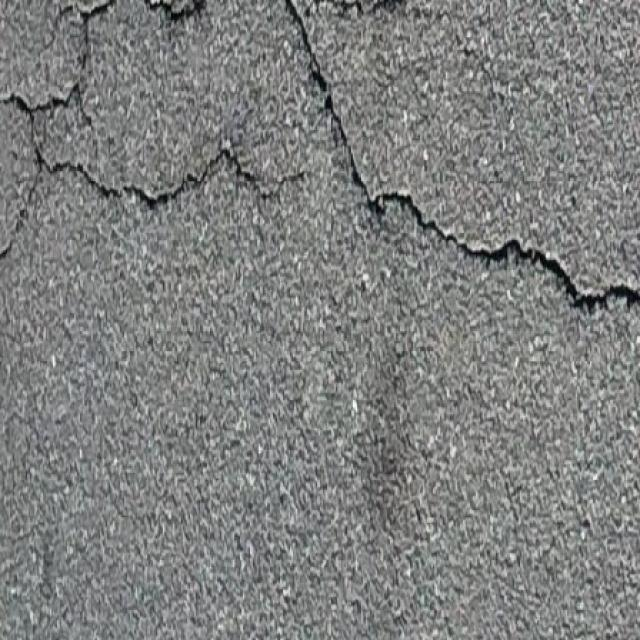Diagonal Crack: (268, 0, 640, 326), (0, 0, 327, 268)
